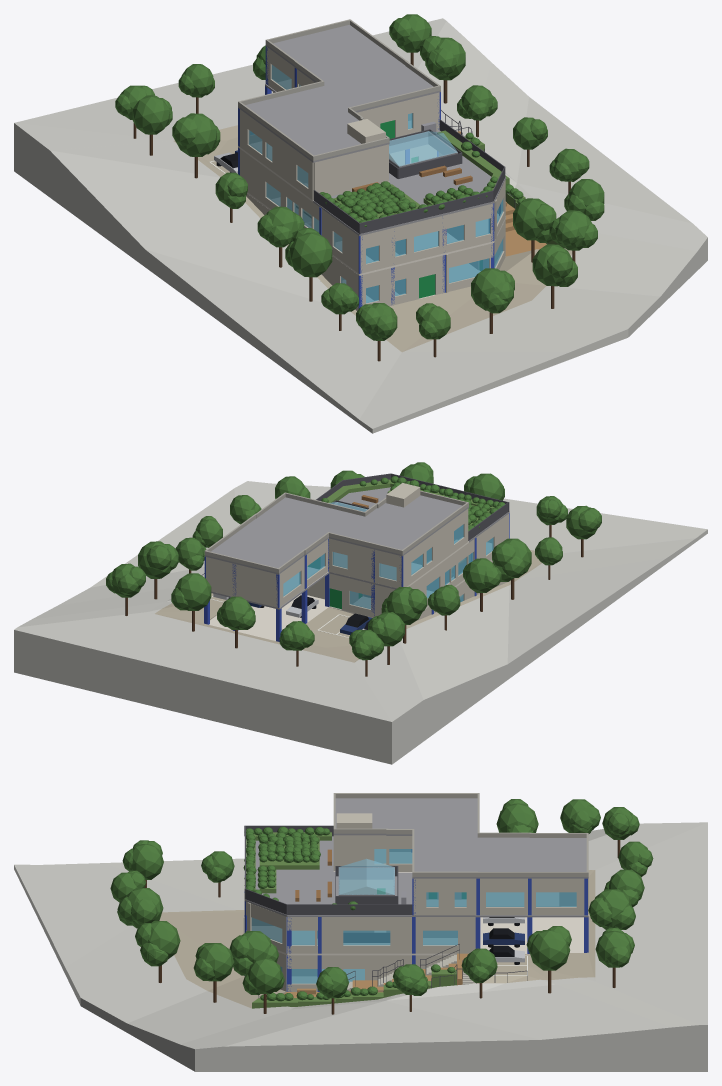
Rendered from building.dae.
The picture shows the model from 3 angles, top to bottom: view 1: azimuth 30°, elevation 25°; view 2: azimuth 150°, elevation 25°; view 3: azimuth 270°, elevation 25°; orthographic projection. The views are drawn at different scales.
Visible parts, largest first — view 1: SITE_X47, F3_R1, SITE_X1, F2_W-0001, SITE_X160, F3_W-0001, F2_R1, F3_W-0002, F1_W-0001, F2_W-0004, F3_W-0012, SITE_X146 (+31 smaller); view 2: SITE_X47, F3_R1, SITE_X1, SITE_X160, F3_W-0020, F3_W-0006, F3_W-0002, F2_S1, SITE_X132, SITE_X106, SITE_X110, SITE_X138 (+24 smaller); view 3: SITE_X47, F3_R1, SITE_X1, F2_R1, SITE_X160, F2_S1, F2_W-0032, F3_W-0025, F3_W-0010, F1_W-0031, SITE_X142, SITE_X146 (+38 smaller).
Boxes of the visible parts, <box> form: SITE_X47: <box>14,18,707,433</box>; F3_R1: <box>238,25,440,162</box>; SITE_X1: <box>173,125,572,352</box>; F2_W-0001: <box>360,203,493,273</box>; SITE_X160: <box>238,19,440,160</box>; F3_W-0001: <box>313,144,388,196</box>; F2_R1: <box>265,84,505,235</box>; F3_W-0002: <box>240,109,313,199</box>; F1_W-0001: <box>360,255,444,306</box>; F2_W-0004: <box>240,149,319,229</box>; F3_W-0012: <box>357,92,439,137</box>; SITE_X146: <box>336,181,416,220</box>; SITE_X47: <box>14,481,707,764</box>; F3_R1: <box>204,495,468,574</box>; SITE_X1: <box>155,550,541,662</box>; SITE_X160: <box>204,490,468,572</box>; F3_W-0020: <box>206,557,277,607</box>; F3_W-0006: <box>328,538,401,588</box>; F3_W-0002: <box>403,509,468,586</box>; F2_S1: <box>209,542,491,640</box>; SITE_X132: <box>492,538,531,581</box>; SITE_X106: <box>171,573,211,610</box>; SITE_X110: <box>138,541,178,578</box>; SITE_X138: <box>381,586,427,624</box>; SITE_X47: <box>14,822,707,1071</box>; F3_R1: <box>333,798,588,878</box>; SITE_X1: <box>159,870,595,1008</box>; F2_R1: <box>244,836,588,917</box>; SITE_X160: <box>333,793,588,876</box>; F2_S1: <box>252,917,583,955</box>; F2_W-0032: <box>390,917,475,953</box>; F3_W-0025: <box>413,878,485,915</box>; F3_W-0010: <box>335,835,412,871</box>; F1_W-0031: <box>321,955,453,980</box>; SITE_X142: <box>338,859,394,894</box>; SITE_X146: <box>257,832,320,862</box>.
Size of the model in its own units: 51000 by 73820 by 15400.
